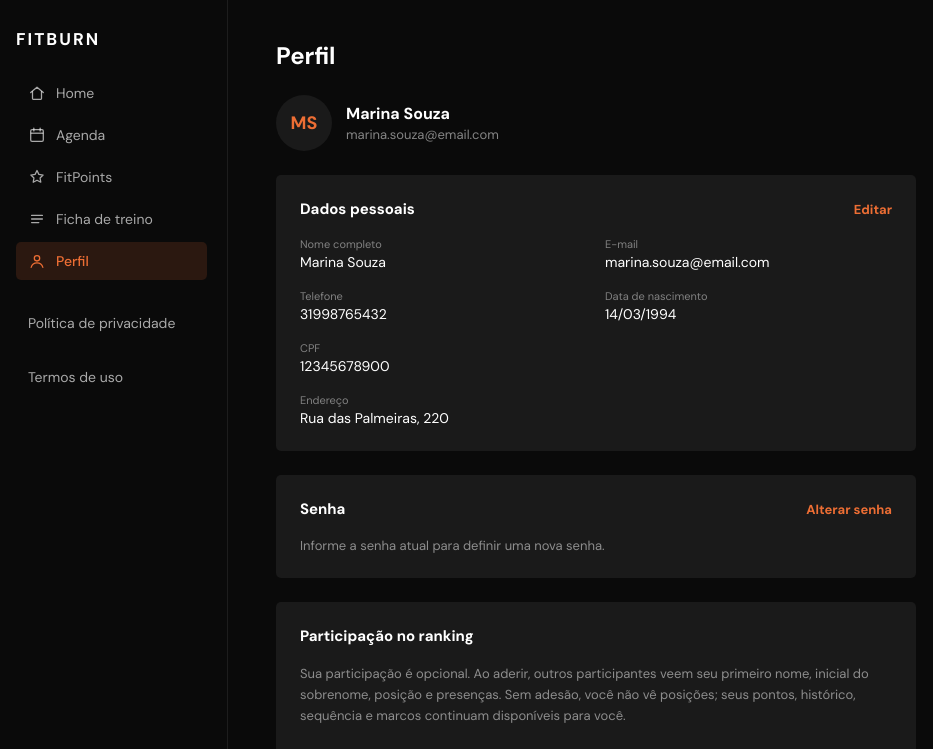
Perfil / Minha conta › cliente › avisa quando o novo e-mail já está em uso e mantém a edição aberta
Step 1. Click the button "Editar" → (873, 209), box x1=854 y1=200 x2=892 y2=218
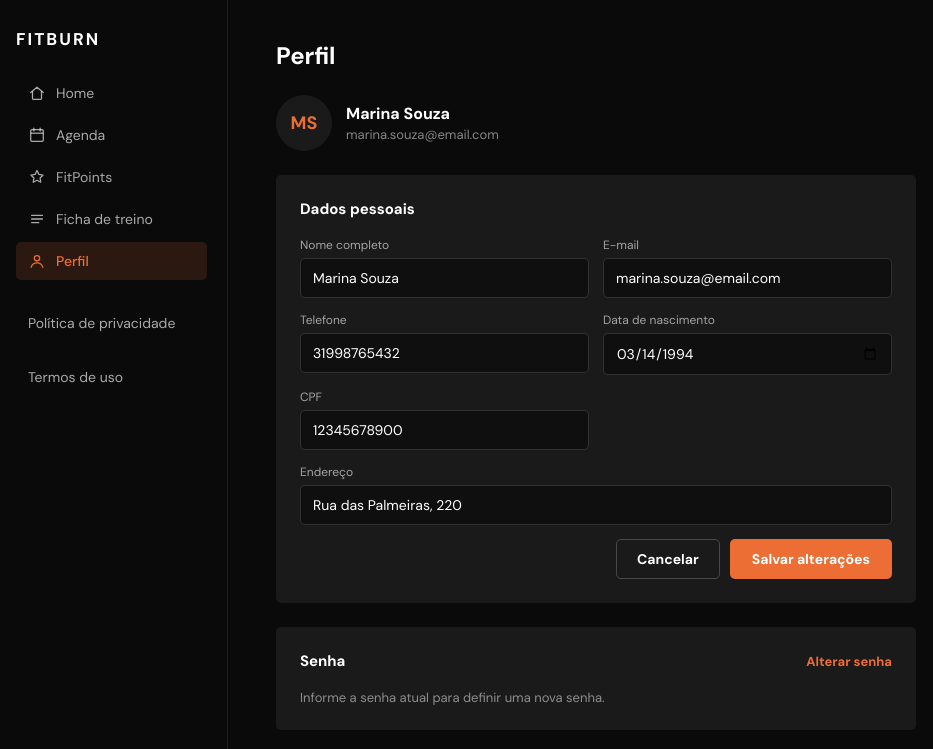
Step 2. Replace the text in the field labelled "E-mail" with "em-uso@fitburn.local" → (748, 278), box x1=603 y1=258 x2=892 y2=298
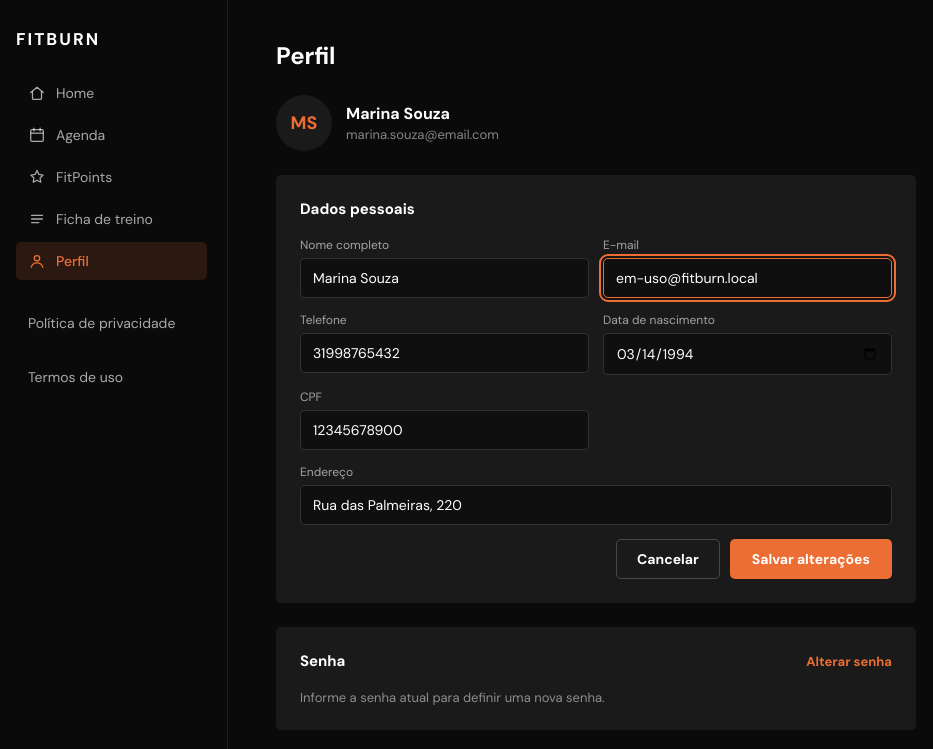
Step 3. Click the button "Salvar alterações" → (811, 559), box x1=730 y1=539 x2=892 y2=579
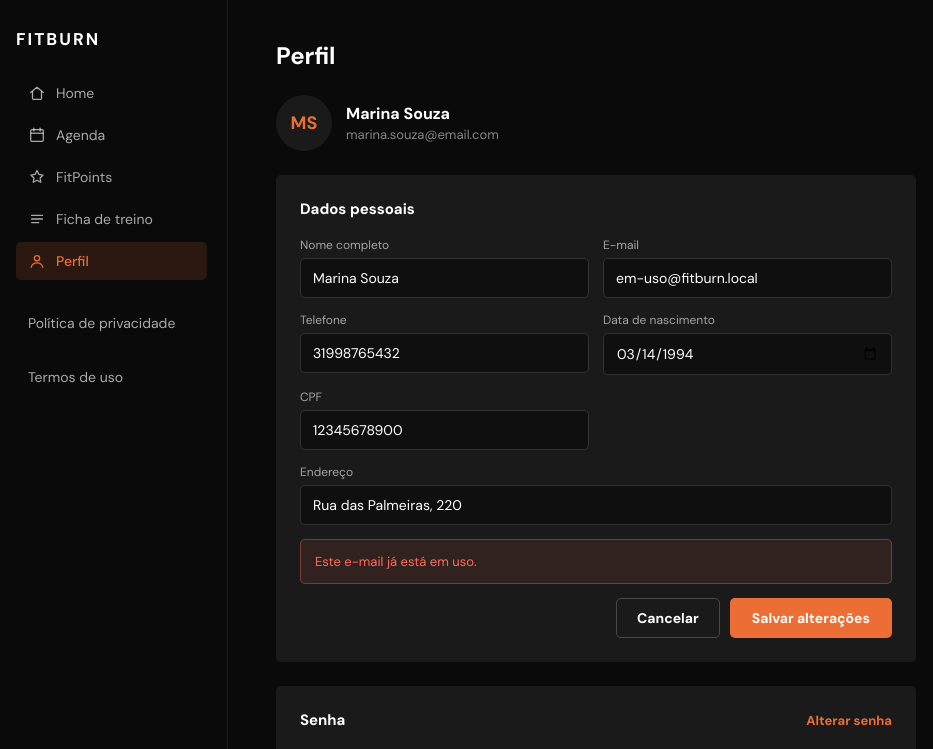
Now the button "Salvar alterações" is enabled, box x1=730 y1=598 x2=892 y2=638
Now the message reads "Este e-mail já está em uso.", box x1=315 y1=553 x2=476 y2=570
